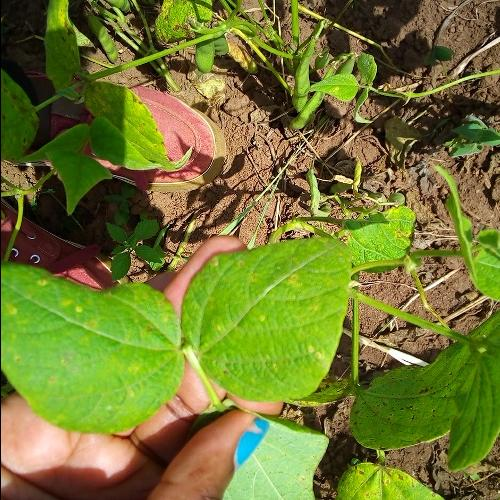sehat: (182, 225, 334, 398), (4, 282, 171, 426)
